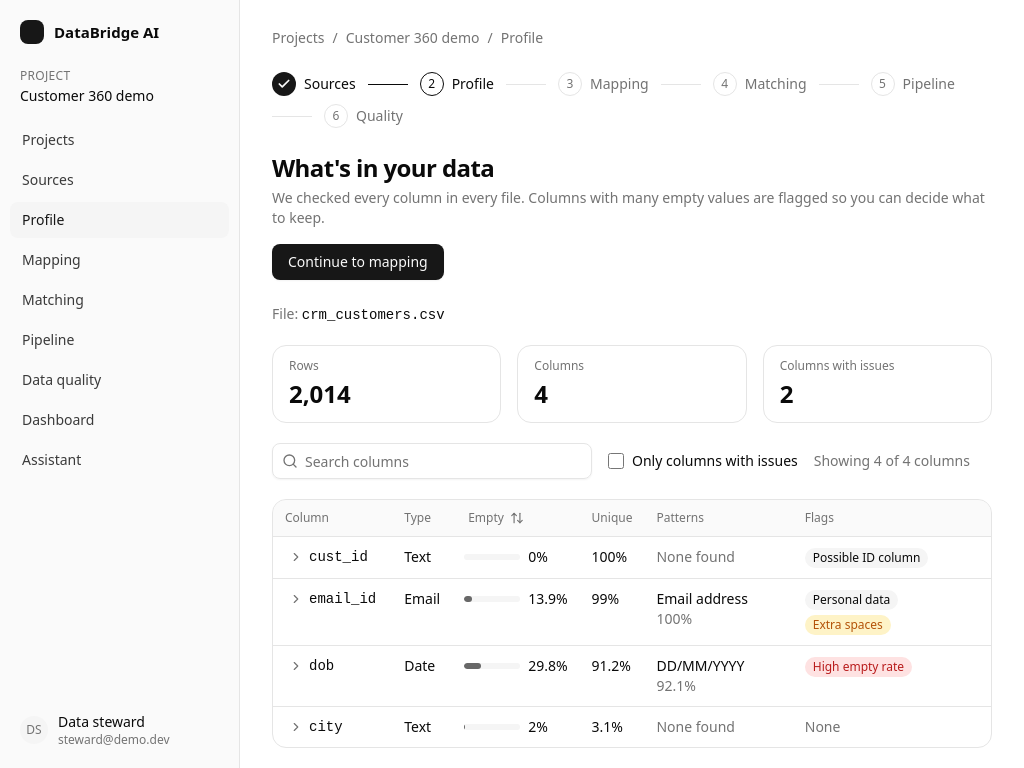
Test: profile page › expands a row to show ranges, top values and masked samples exactly as sent
The width and height of the screenshot is (1024, 768).
Later steps or results of the test are not shown.
Click the button with aria-label "email_id, details" at (333, 599), box [279,585,386,613]
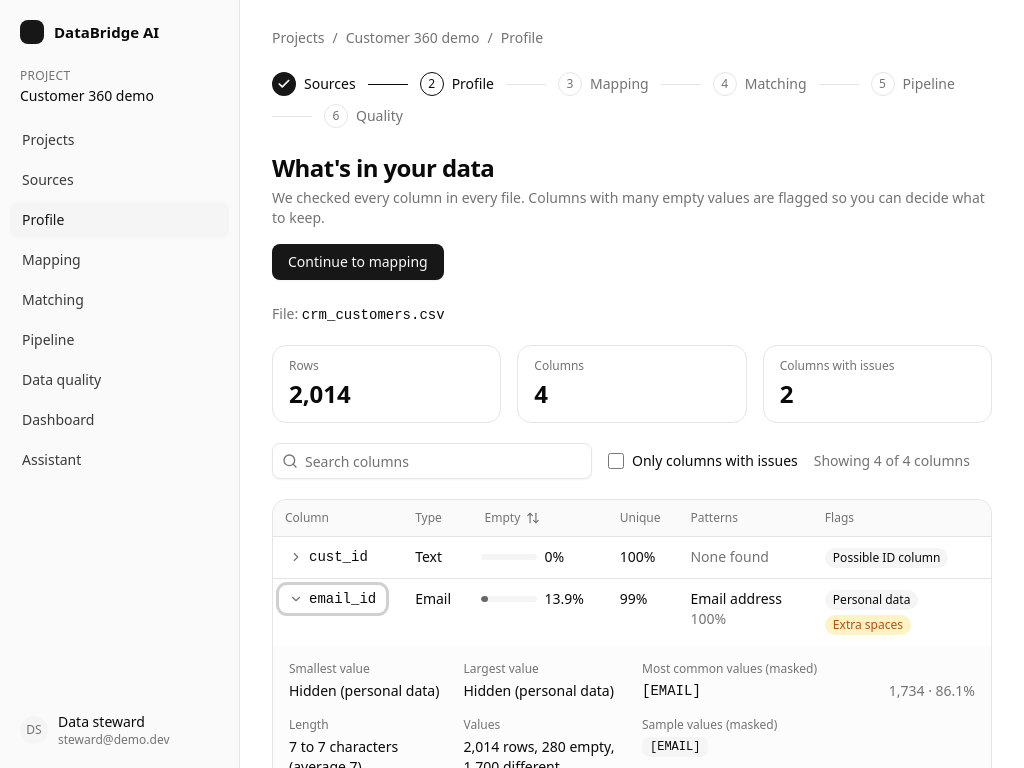
Check: the button with aria-label "email_id, details" is expanded, box [279,585,386,613]
Check: the text "Hidden (personal data)" is shown 2 times, box [289,681,448,701]; [464,681,622,701]
Check: the text "1,734 · 86.1%" is shown, box [889,681,975,701]
